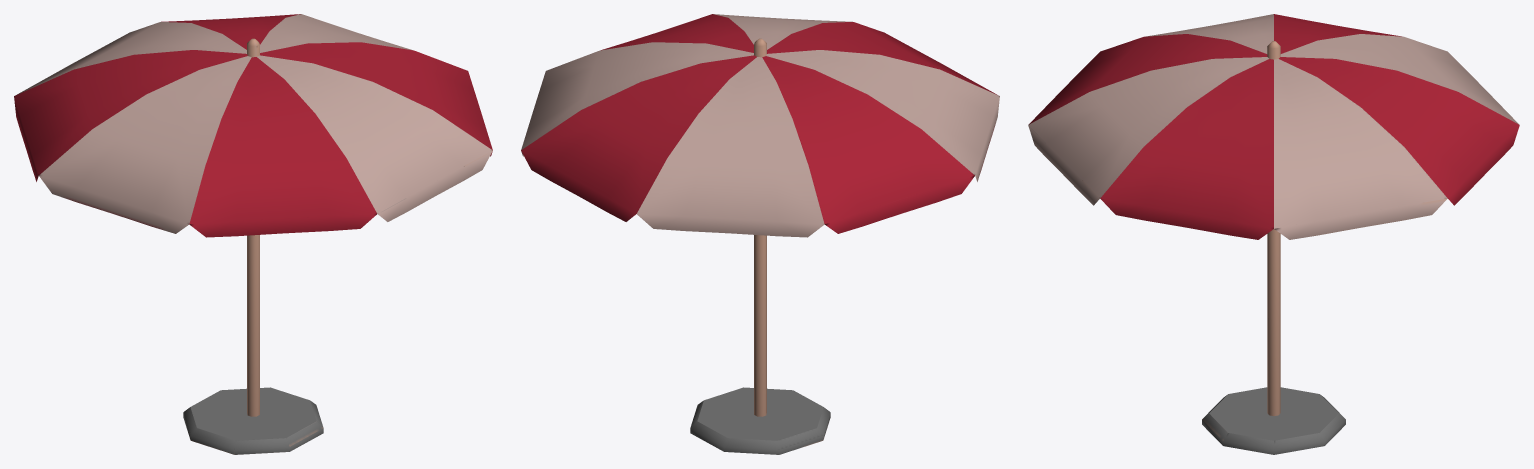
File: parasol.glb
3 views of the same model, side by side, from view 1: azimuth 30°, elevation 25°; view 2: azimuth 150°, elevation 25°; view 3: azimuth 270°, elevation 25° (orthographic).
Parts seen in each view (by area): view 1: Cylinder.001; view 2: Cylinder.001; view 3: Cylinder.001.
Part boxes in pixels (bbox=[...]): Cylinder.001: bbox=[14, 14, 492, 454]; Cylinder.001: bbox=[521, 14, 999, 454]; Cylinder.001: bbox=[1028, 14, 1519, 454].
Size of the model in its own units: 2 by 1.73 by 2.
Materials: 1 (1 with a texture image).
